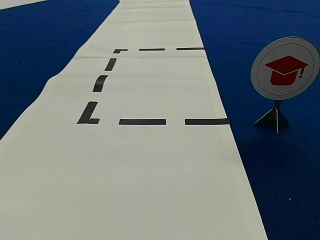school: (252, 36, 316, 99)
